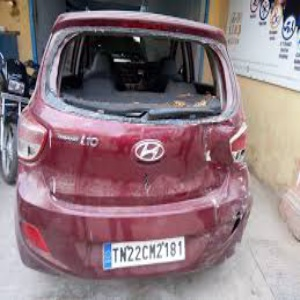bumper: (189, 198, 250, 272)
